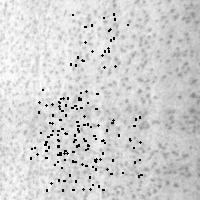pitted_surface: (1, 1, 153, 198), (135, 7, 198, 200), (30, 97, 87, 157), (84, 116, 140, 175), (46, 134, 102, 189), (70, 13, 127, 66), (42, 89, 96, 144)
